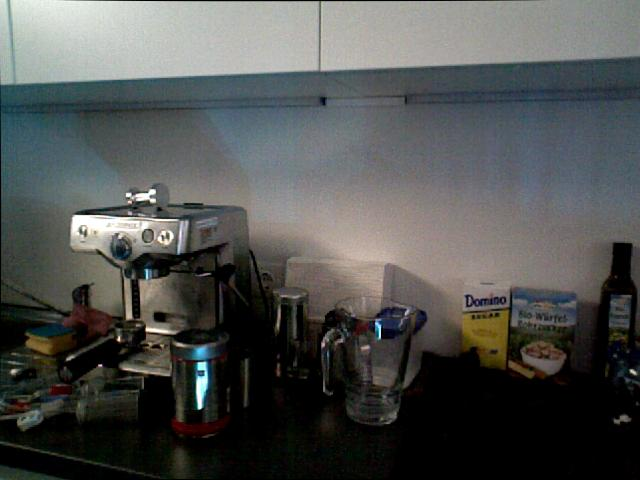bench: (594, 241, 638, 382)
bird: (519, 341, 566, 375)
couch: (0, 307, 56, 365)
hair drier: (322, 293, 425, 426)
